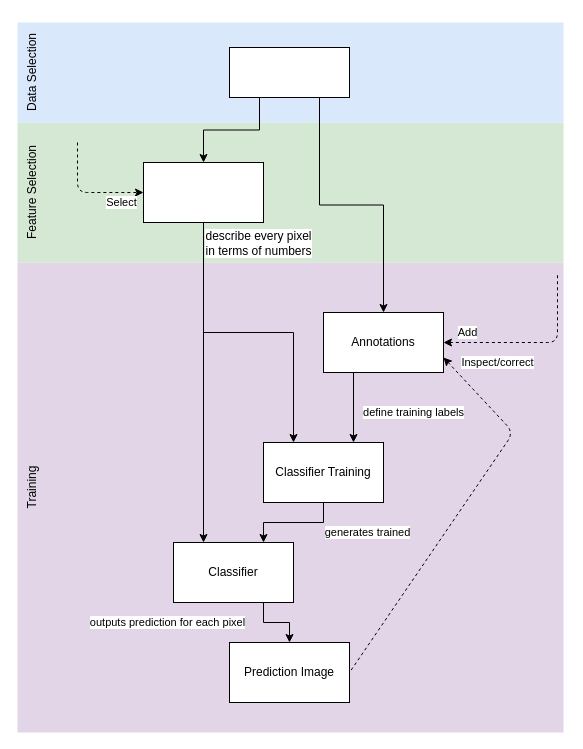
This 583x749 diagram has some shape labels left out. The shapes that lost their labels are listed below. From the top down, each one's centre as x and y in pixels, then its label:
At point 289,72: "Image/raw data".
At point 203,192: "Pixel Features".
